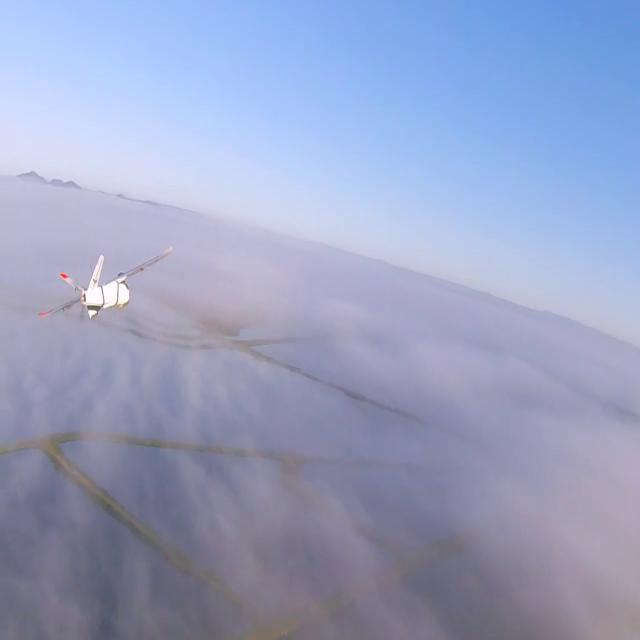iha: (0, 279, 109, 291)
